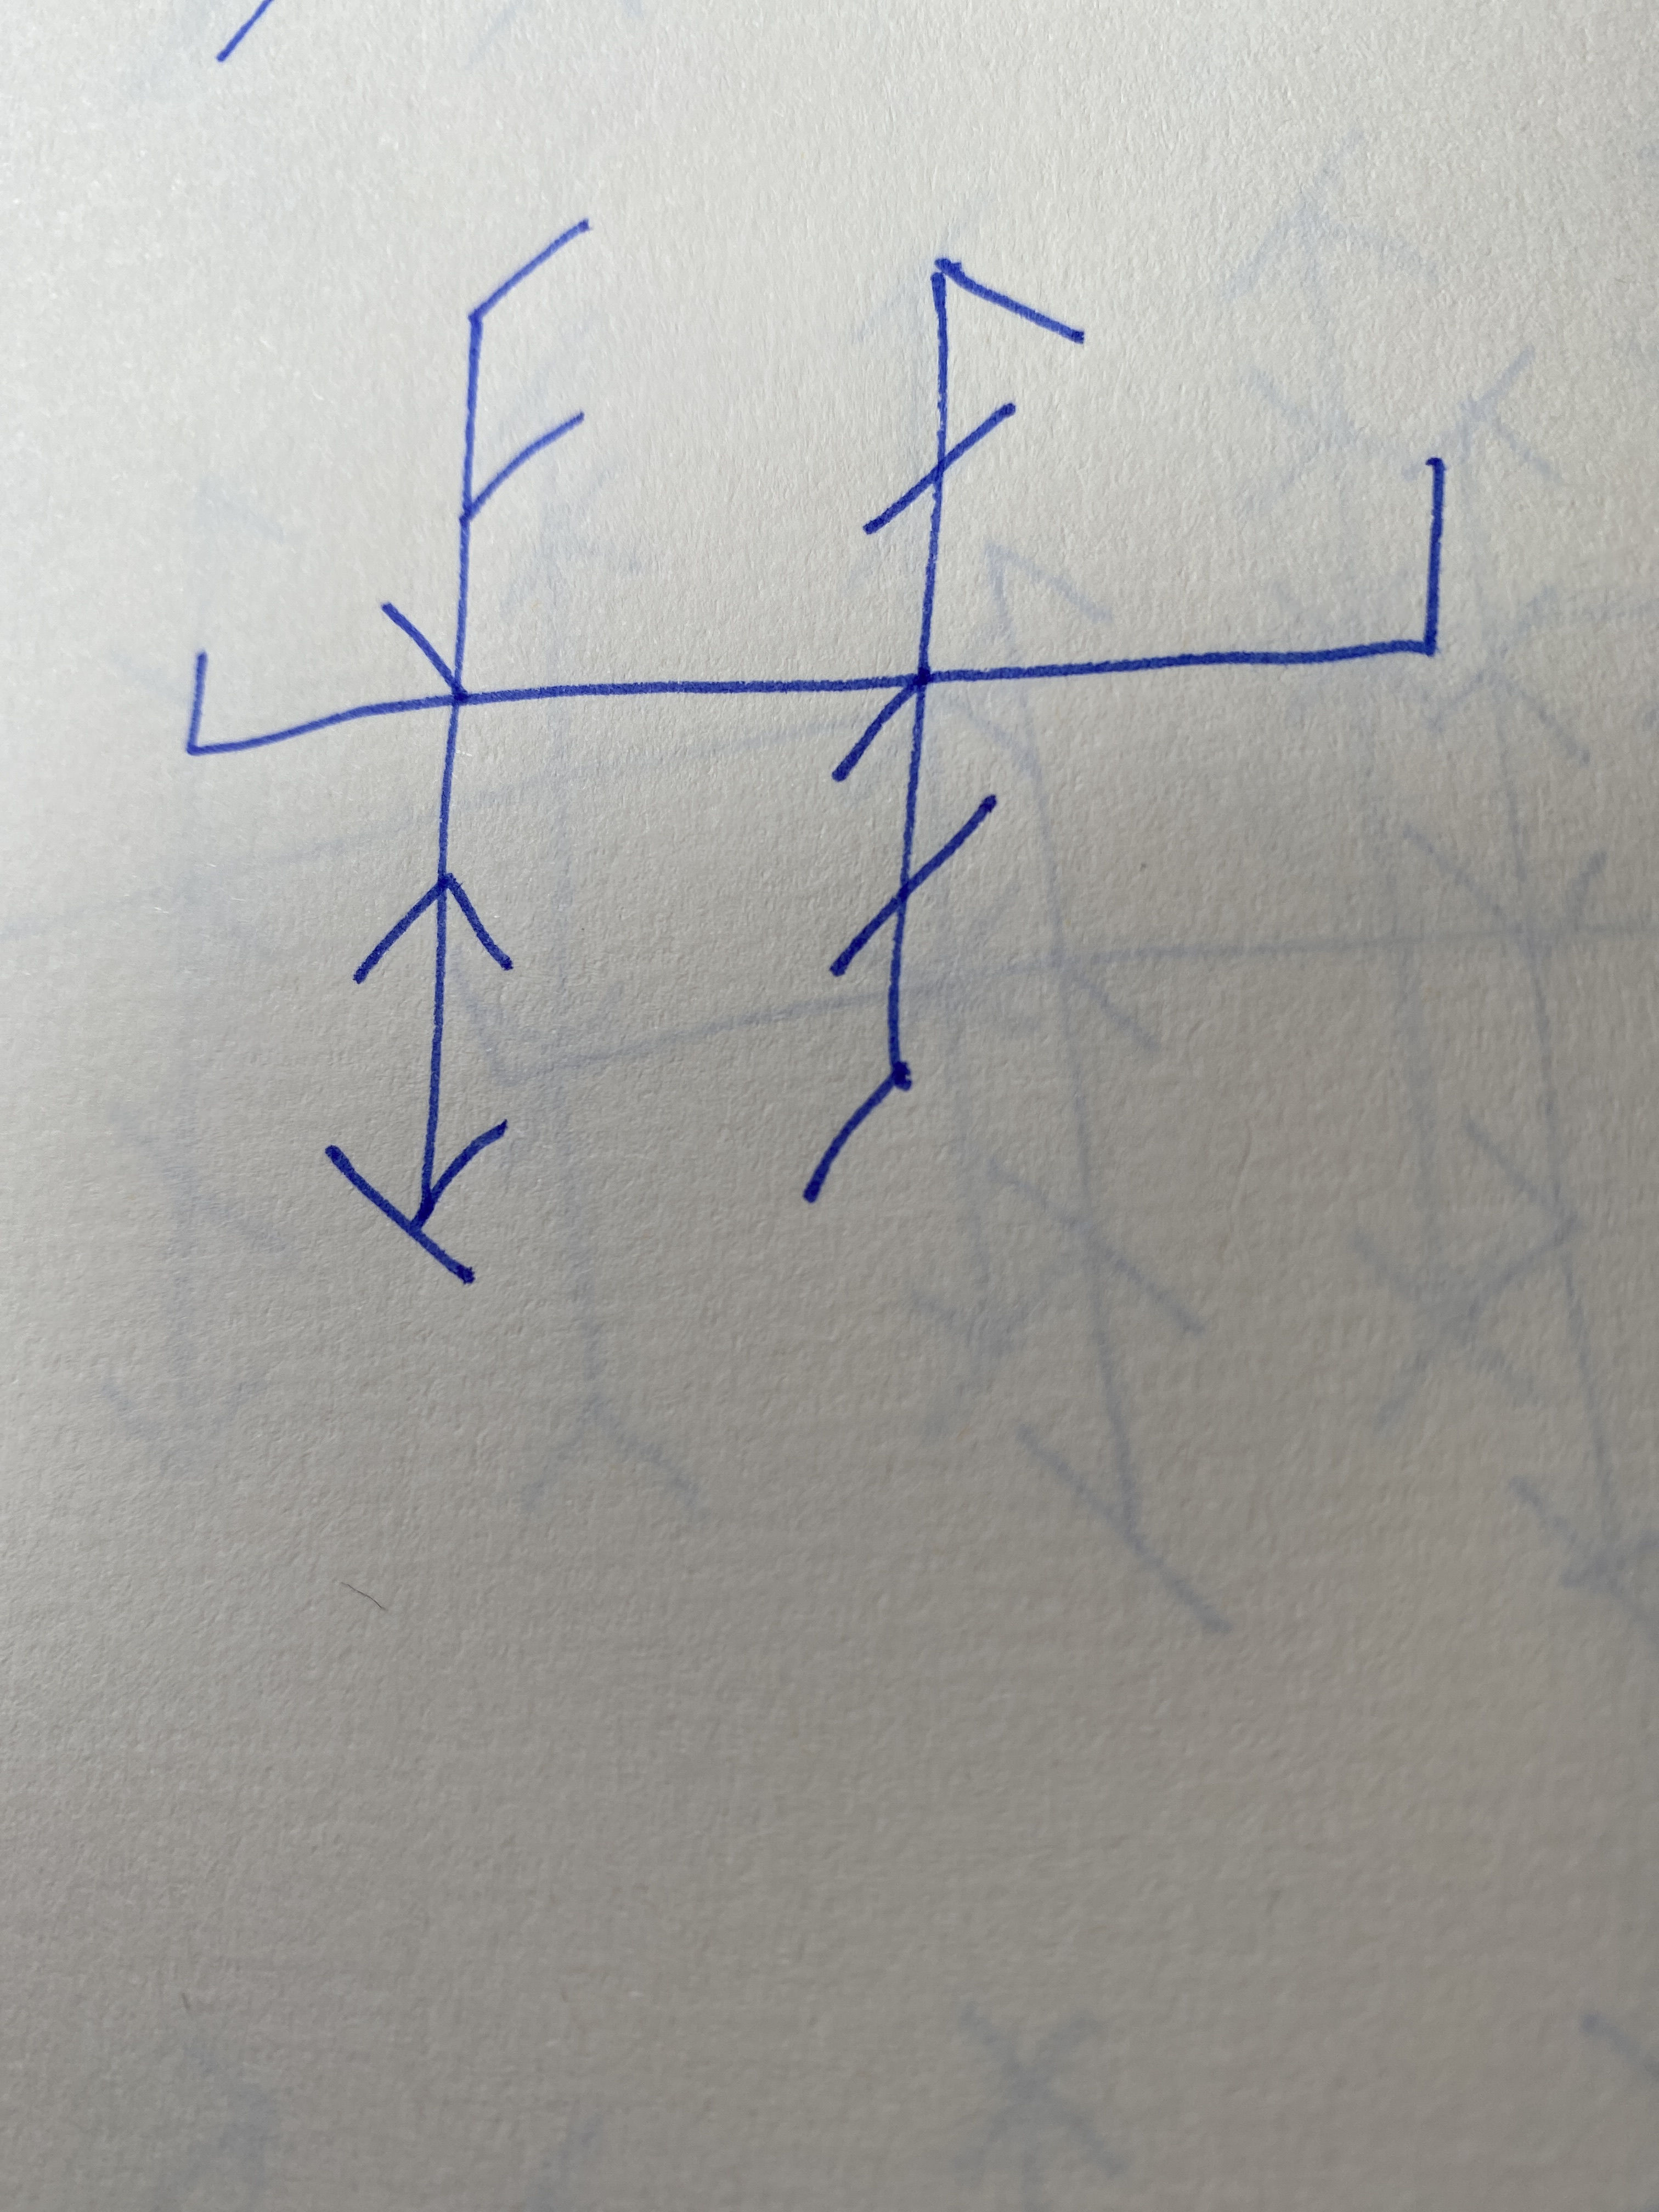Bar: (324, 216, 591, 1285), (805, 254, 1089, 1205)
Barcode: (185, 216, 1448, 1284)
End: (960, 458, 1450, 685)
Start: (183, 646, 413, 756)
